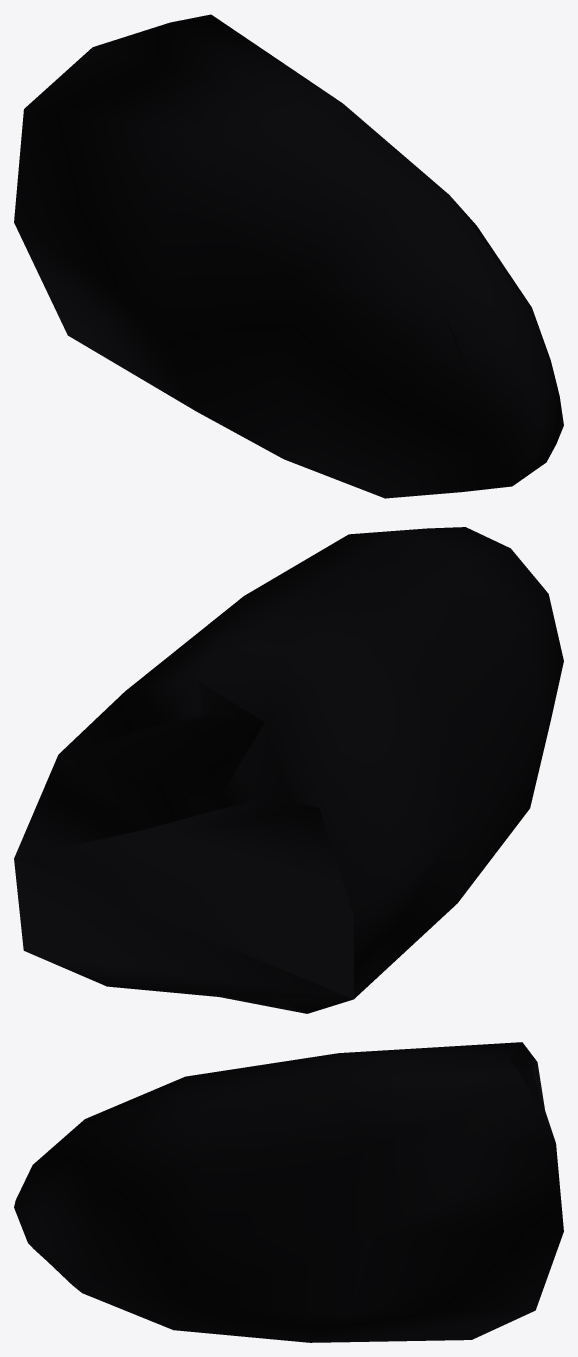
File: brazo1ZIM.obj
The picture shows the model from 3 angles, top to bottom: view 1: azimuth 30°, elevation 25°; view 2: azimuth 150°, elevation 25°; view 3: azimuth 270°, elevation 25°; orthographic projection. The views are drawn at different scales.
Visible parts, largest first — view 1: BRAZO_2; view 2: BRAZO_2; view 3: BRAZO_2.
Boxes of the visible parts, x1,y1,x2,y2 form: BRAZO_2: [14, 14, 563, 498]; BRAZO_2: [14, 527, 563, 1013]; BRAZO_2: [14, 1042, 563, 1342].
Bounding box in the file's own units: 0.0496 × 0.0532 × 0.1037.
Materials: 1 (1 with a texture image).
